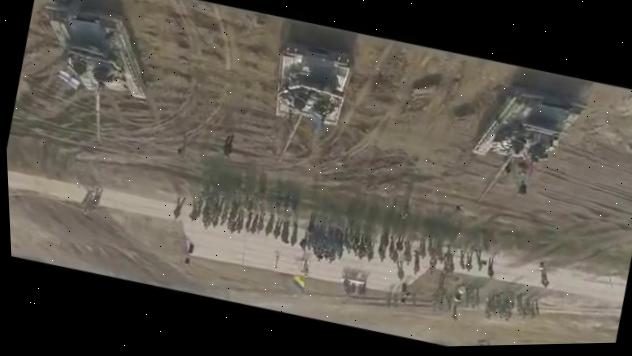person: (169, 193, 186, 219), (219, 131, 235, 157), (407, 249, 423, 274), (390, 259, 407, 281), (86, 184, 102, 207), (469, 248, 485, 271), (277, 219, 292, 243), (303, 211, 318, 235), (439, 243, 454, 267), (535, 266, 551, 288), (287, 221, 301, 246), (174, 134, 188, 159), (396, 195, 411, 218), (232, 210, 247, 233), (252, 210, 266, 233), (78, 186, 92, 209), (270, 215, 283, 239), (186, 199, 200, 221), (482, 256, 496, 278), (461, 250, 475, 272), (262, 212, 275, 235), (414, 238, 428, 259), (242, 210, 255, 232), (454, 248, 467, 269), (247, 212, 259, 233), (393, 233, 406, 252), (400, 239, 412, 259), (376, 242, 388, 262), (193, 198, 203, 218), (449, 304, 460, 321)
tank: (18, 0, 167, 150), (455, 72, 594, 225), (254, 34, 359, 173)
